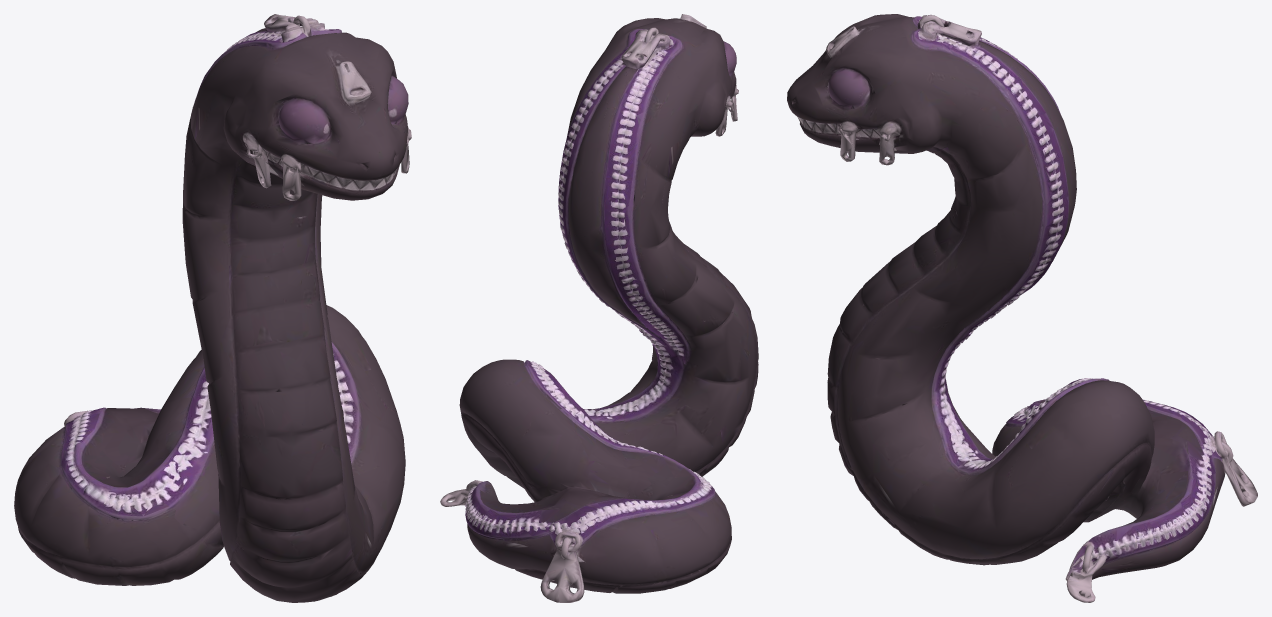
Rendered from caecilith.glb.
3 renders of one model, left to right at view 1: azimuth 30°, elevation 25°; view 2: azimuth 150°, elevation 25°; view 3: azimuth 270°, elevation 25°, orthographic. The views are drawn at different scales.
Parts seen in each view (by area): view 1: Mesh_0; view 2: Mesh_0; view 3: Mesh_0.
Part boxes in pixels (<box>): Mesh_0: <box>14,14,411,602</box>; Mesh_0: <box>440,14,758,602</box>; Mesh_0: <box>787,14,1257,602</box>.
Bounding box in the file's own units: 1.22 × 1.9 × 1.57.
1 material, 1 textured.
